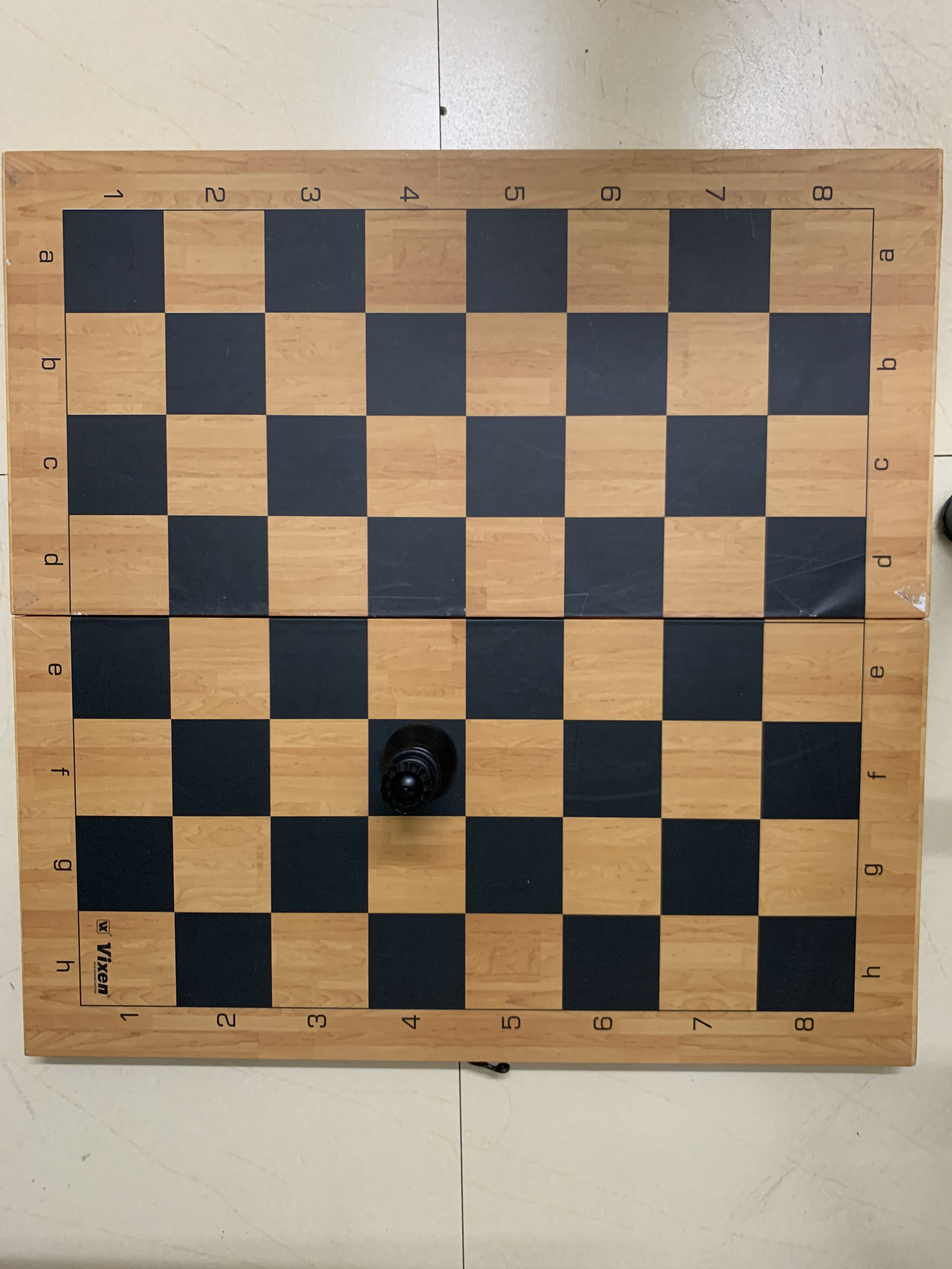black_queen: (368, 715, 474, 818)
